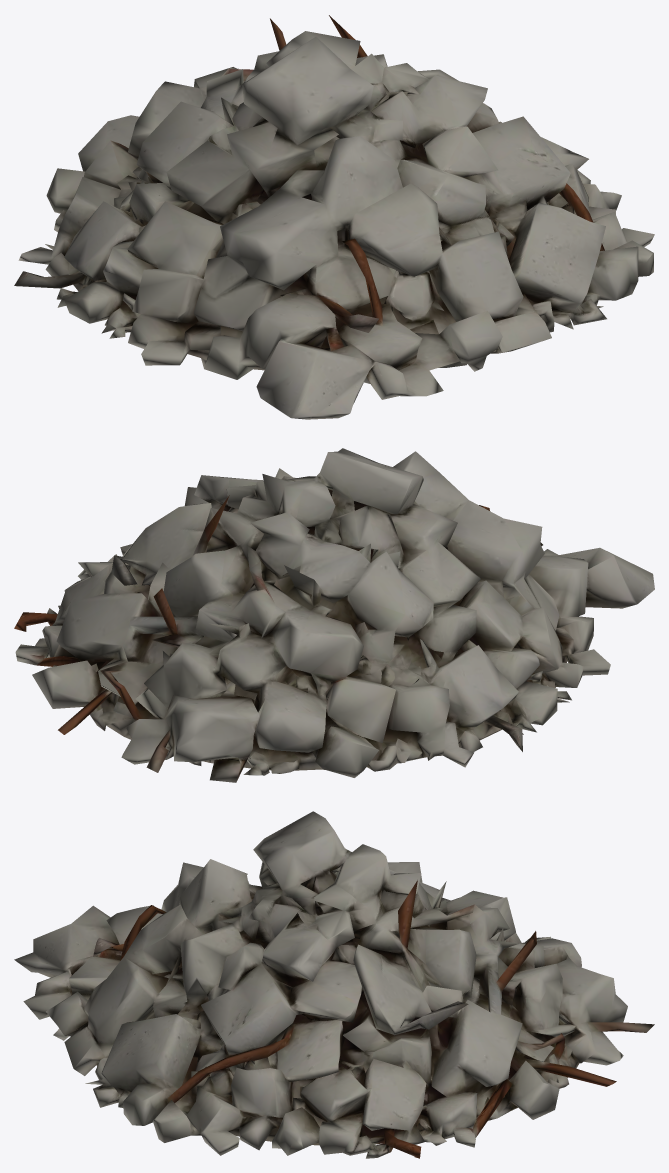
Rendered from rubble.glb.
The picture shows the model from 3 angles, top to bottom: view 1: azimuth 30°, elevation 25°; view 2: azimuth 150°, elevation 25°; view 3: azimuth 270°, elevation 25°; orthographic projection. The views are drawn at different scales.
Parts seen in each view (by area): view 1: tripo_node_377bd1fa-6ecc-4209-a547-afe9edfa289b; view 2: tripo_node_377bd1fa-6ecc-4209-a547-afe9edfa289b; view 3: tripo_node_377bd1fa-6ecc-4209-a547-afe9edfa289b.
Boxes of the visible parts, x1,y1,x2,y2 form: tripo_node_377bd1fa-6ecc-4209-a547-afe9edfa289b: (14,15,654,419); tripo_node_377bd1fa-6ecc-4209-a547-afe9edfa289b: (14,448,654,782); tripo_node_377bd1fa-6ecc-4209-a547-afe9edfa289b: (14,811,654,1158).
Bounding box in the file's own units: 0.8821 × 0.3571 × 1.
Materials: 1 (1 with a texture image).
